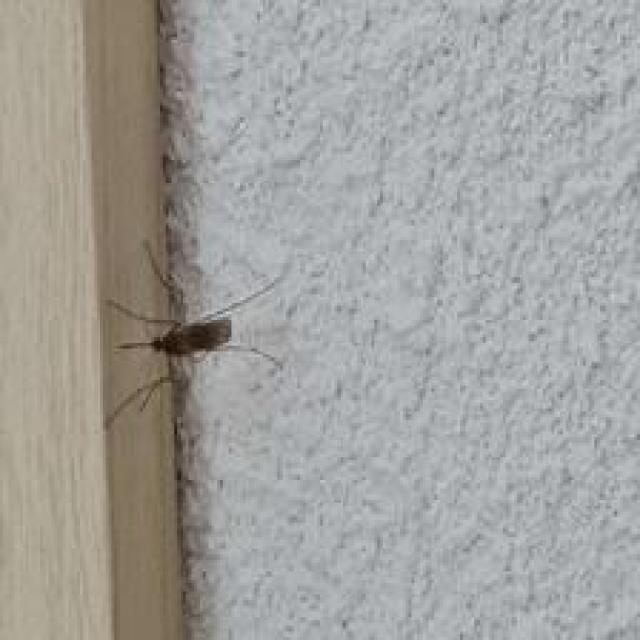Culex: (102, 240, 284, 431)
